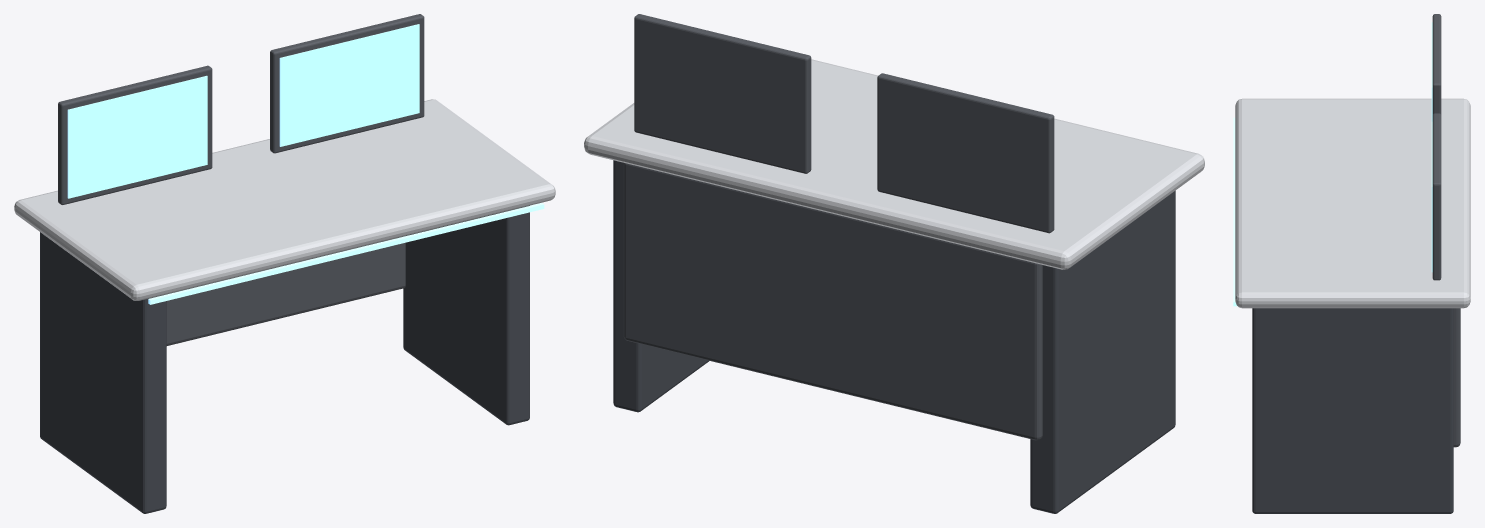
File: command_console_ops_desk.glb
3 renders of one model, left to right at view 1: azimuth 30°, elevation 25°; view 2: azimuth 150°, elevation 25°; view 3: azimuth 270°, elevation 25°, orthographic. The views are drawn at different scales.
Visible parts, largest first — view 1: GD_command_console_ops_desk__m0, GD_command_console_ops_desk__m1, GD_command_console_ops_desk__m3, GD_command_console_ops_desk__m2, GD_command_console_ops_desk__m4; view 2: GD_command_console_ops_desk__m2, GD_command_console_ops_desk__m1, GD_command_console_ops_desk__m0; view 3: GD_command_console_ops_desk__m0, GD_command_console_ops_desk__m1, GD_command_console_ops_desk__m2, GD_command_console_ops_desk__m4, GD_command_console_ops_desk__m3.
Boxes of the visible parts, left/top/right/bottom form: GD_command_console_ops_desk__m0: left=14, top=99, right=555, bottom=300; GD_command_console_ops_desk__m1: left=40, top=205, right=529, bottom=513; GD_command_console_ops_desk__m3: left=67, top=24, right=419, bottom=198; GD_command_console_ops_desk__m2: left=58, top=14, right=424, bottom=345; GD_command_console_ops_desk__m4: left=148, top=203, right=544, bottom=304; GD_command_console_ops_desk__m2: left=623, top=14, right=1054, bottom=440; GD_command_console_ops_desk__m1: left=613, top=160, right=1175, bottom=513; GD_command_console_ops_desk__m0: left=584, top=59, right=1204, bottom=269; GD_command_console_ops_desk__m0: left=1235, top=98, right=1470, bottom=308; GD_command_console_ops_desk__m1: left=1252, top=308, right=1453, bottom=513; GD_command_console_ops_desk__m2: left=1432, top=14, right=1460, bottom=447; GD_command_console_ops_desk__m4: left=1233, top=117, right=1236, bottom=306; GD_command_console_ops_desk__m3: left=1431, top=22, right=1432, bottom=272.
Bounding box in the file's own units: 1.4 × 1.07 × 0.706.
